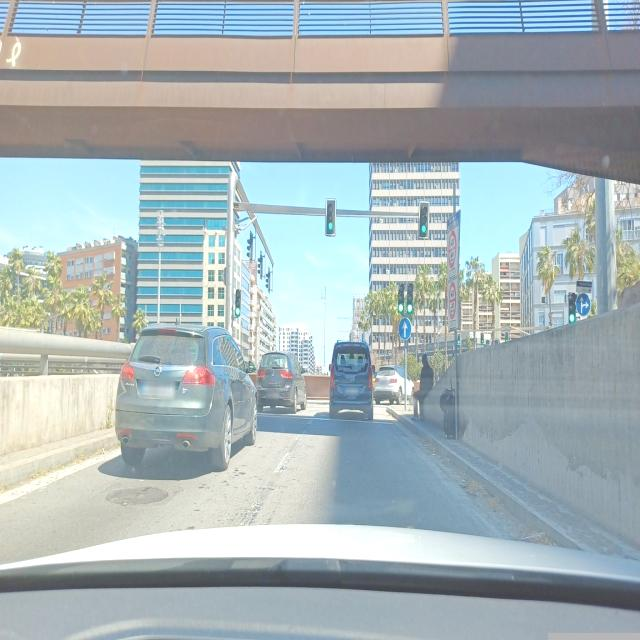car: (114, 320, 258, 471), (328, 339, 374, 420), (256, 350, 307, 414), (373, 364, 415, 404)
